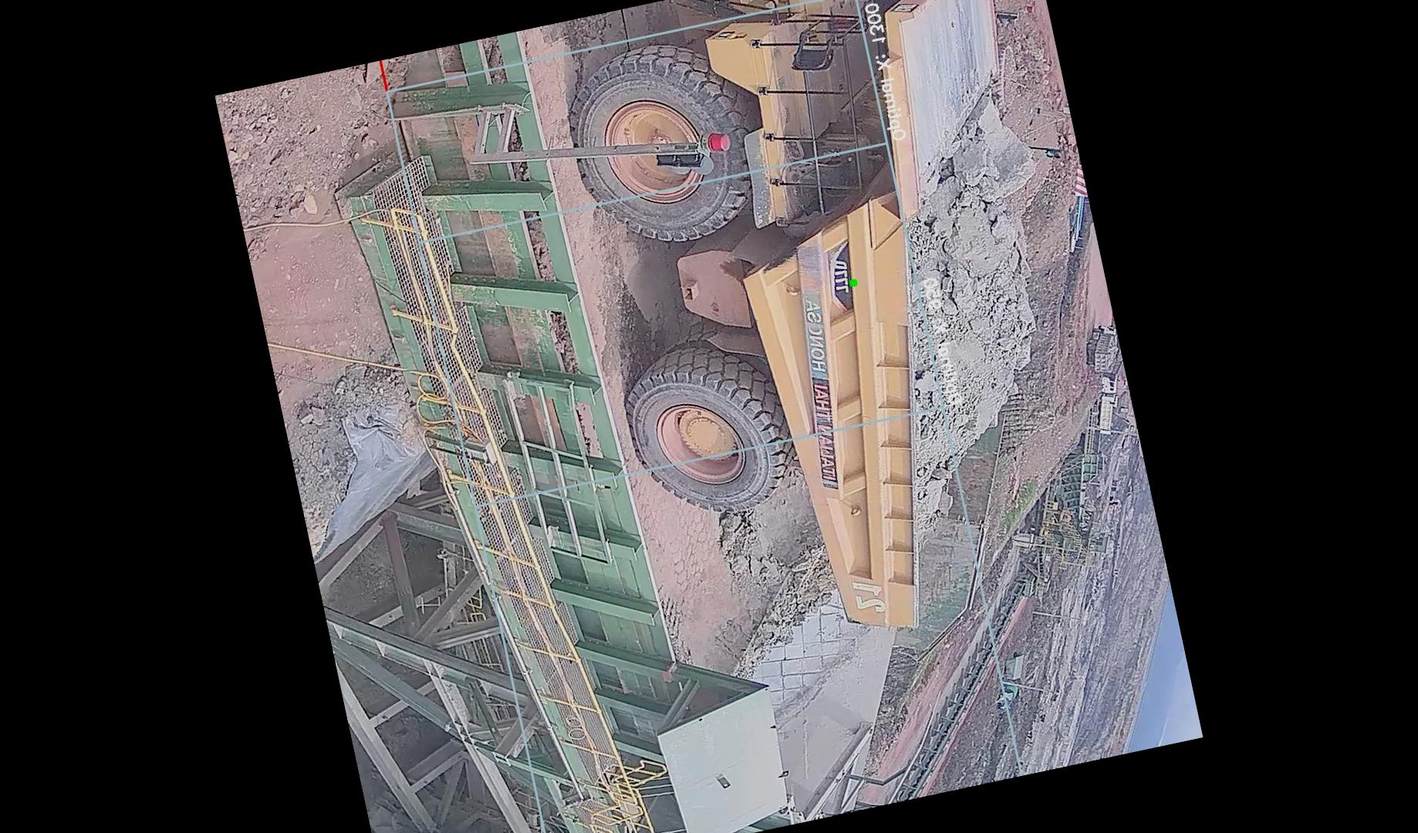company: (783, 288, 870, 509)
full_load: (876, 165, 1068, 422)
mining_truck: (552, 0, 1129, 689)
tail_number: (835, 553, 901, 628)
truck_size: (820, 239, 864, 315)
